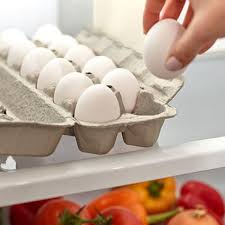eggs: (6, 24, 147, 129)
